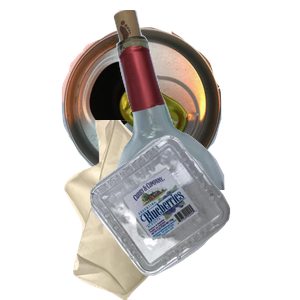glass: (89, 10, 300, 190)
metal: (59, 10, 273, 189)
plastic: (88, 133, 300, 300)
trash: (62, 120, 251, 300)
